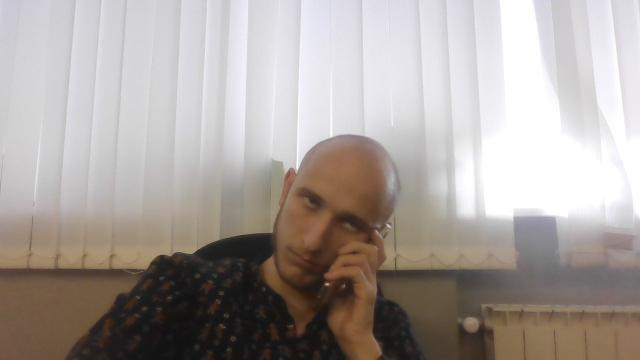Phone: (307, 222, 395, 308)
